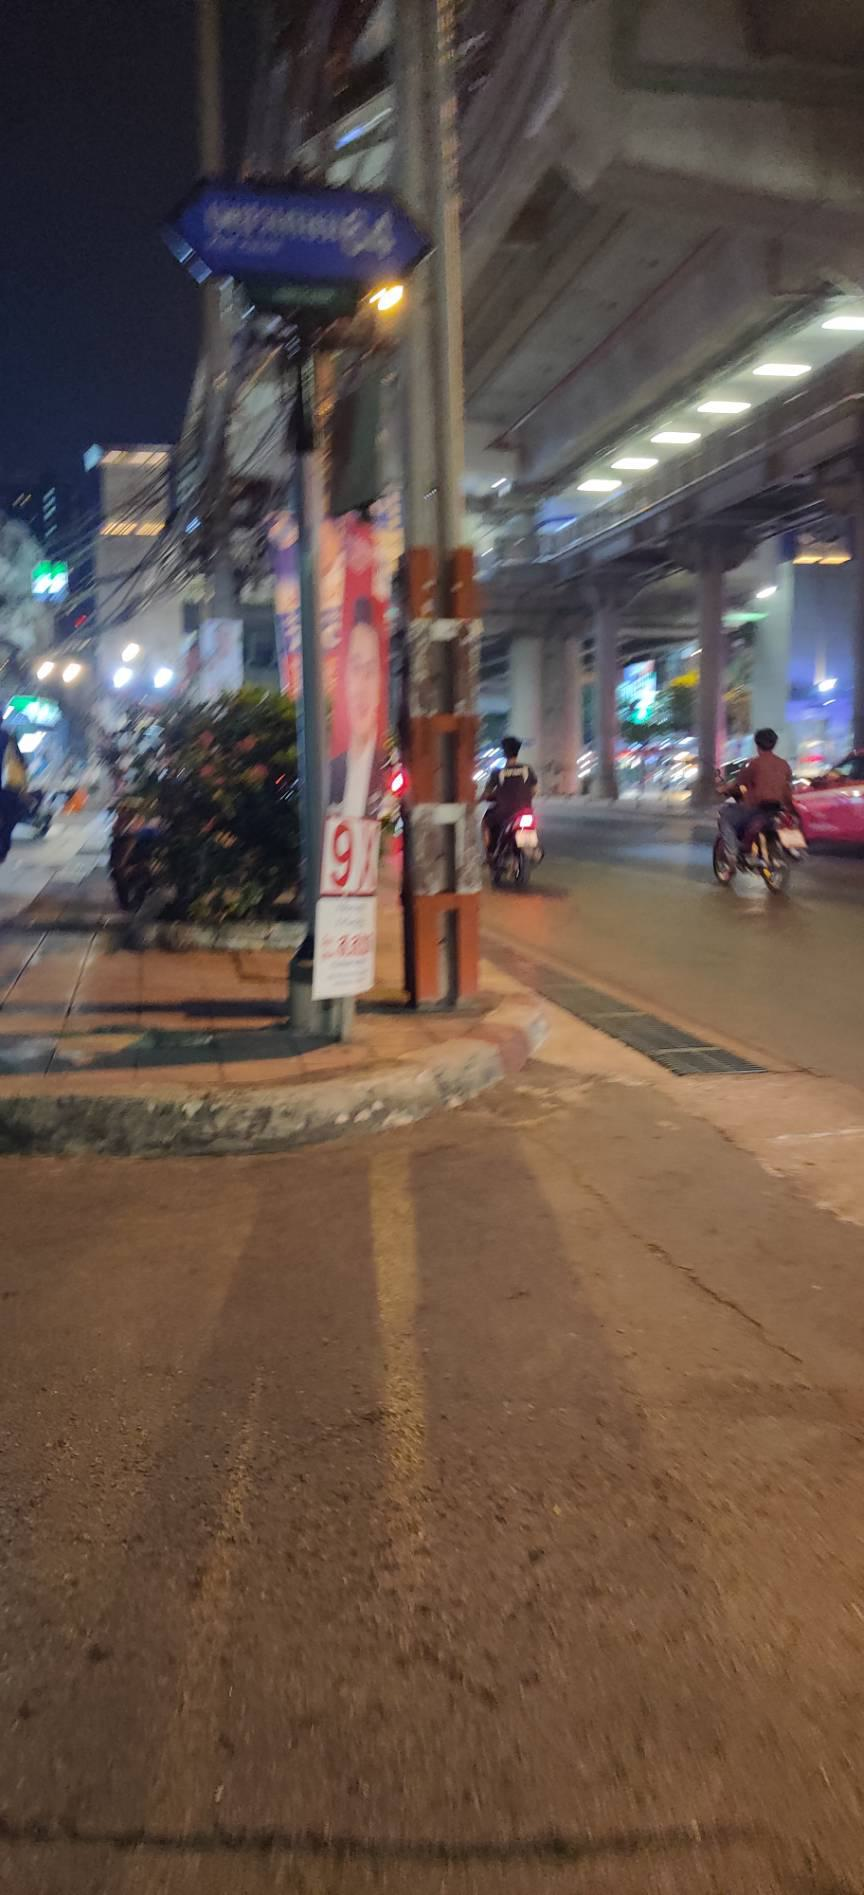Banner: (273, 514, 388, 999)
